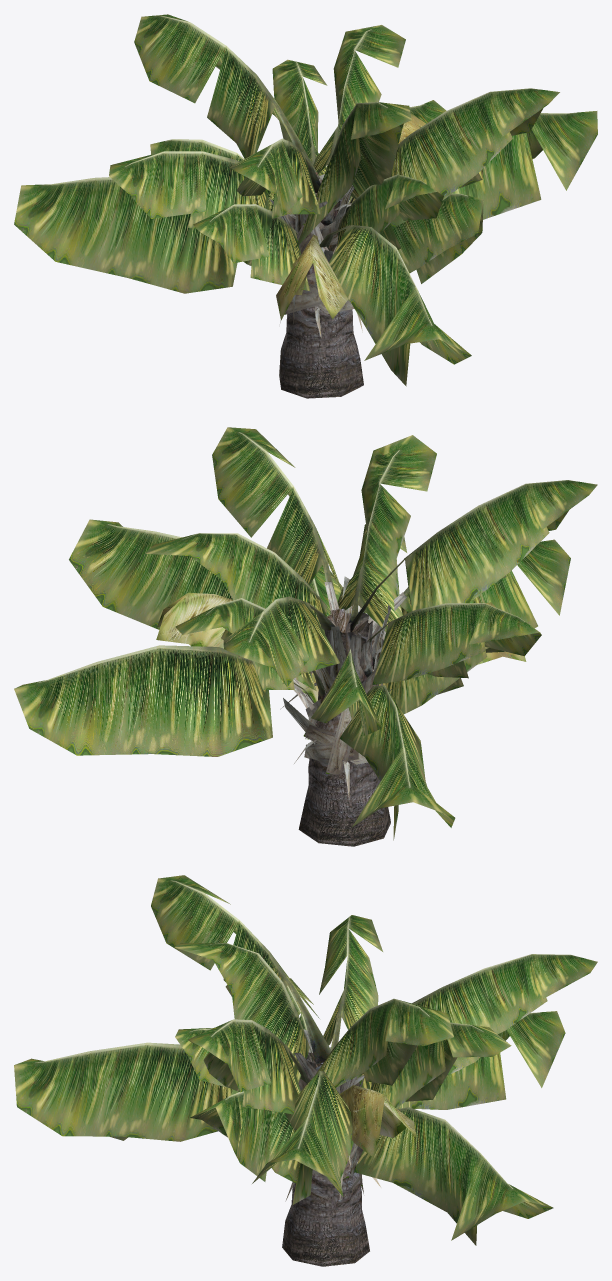
Rendered from Palm_Tree_Short_b.fbx.
The picture shows the model from 3 angles, top to bottom: view 1: azimuth 30°, elevation 25°; view 2: azimuth 150°, elevation 25°; view 3: azimuth 270°, elevation 25°; orthographic projection. The views are drawn at different scales.
Visible parts, largest first — view 1: leaf_Tree_Short_b, trunk_Tree_Short_b; view 2: leaf_Tree_Short_b, trunk_Tree_Short_b; view 3: leaf_Tree_Short_b, trunk_Tree_Short_b.
Part boxes in pixels (left/top/right/bottom): leaf_Tree_Short_b: left=14, top=14, right=597, bottom=386; trunk_Tree_Short_b: left=279, top=172, right=363, bottom=398; leaf_Tree_Short_b: left=14, top=427, right=597, bottom=840; trunk_Tree_Short_b: left=298, top=608, right=390, bottom=846; leaf_Tree_Short_b: left=14, top=875, right=597, bottom=1245; trunk_Tree_Short_b: left=282, top=1052, right=369, bottom=1266.
Size of the model in its own units: 4.22 by 2.73 by 4.66.
Materials: 2 (2 with a texture image).
